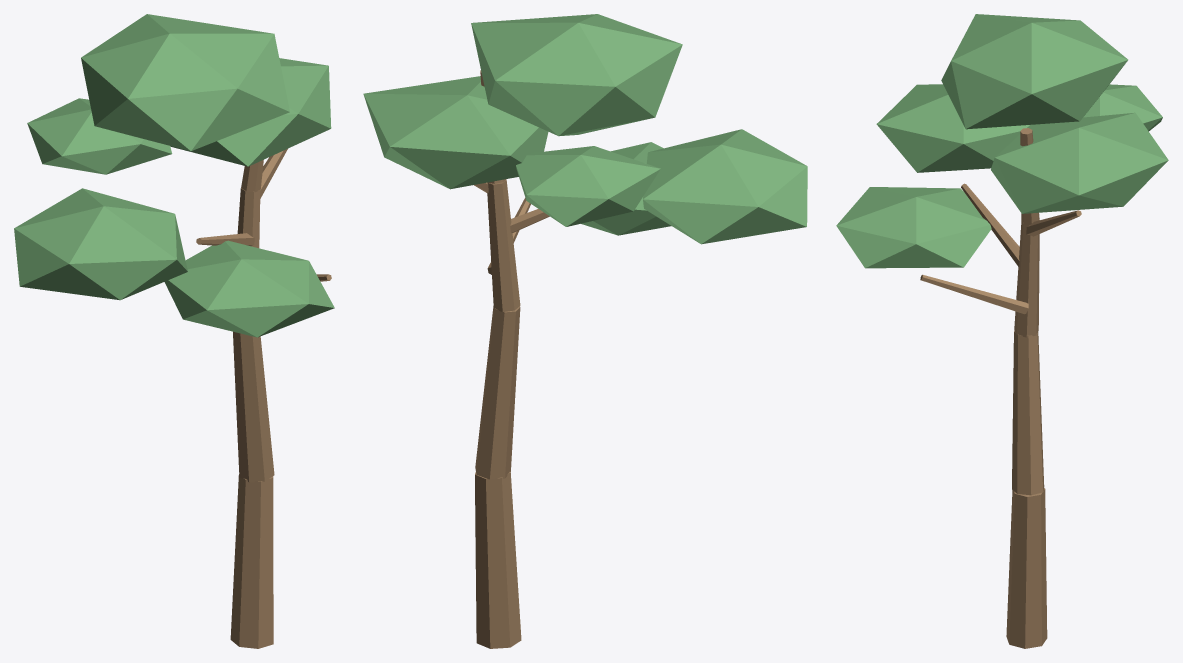
Rendered from baum_kiefer.glb.
3 views of the same model, side by side, from view 1: azimuth 30°, elevation 25°; view 2: azimuth 150°, elevation 25°; view 3: azimuth 270°, elevation 25° (orthographic). The views are drawn at different scales.
Visible parts, largest first — view 1: Kiefer_Laub, Kiefer_Stamm; view 2: Kiefer_Laub, Kiefer_Stamm; view 3: Kiefer_Laub, Kiefer_Stamm.
Part boxes in pixels (box(x1,y1,x2,y2)): Kiefer_Laub: box(14, 14, 334, 337); Kiefer_Stamm: box(196, 148, 331, 648); Kiefer_Laub: box(363, 14, 807, 244); Kiefer_Stamm: box(474, 70, 549, 648); Kiefer_Laub: box(836, 14, 1168, 268); Kiefer_Stamm: box(920, 128, 1081, 648).
Bounding box in the file's own units: 3.8 × 6.11 × 3.17.
